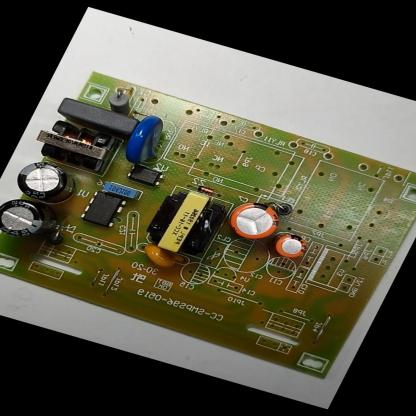Cap1: (220, 197, 289, 245)
Cap2: (270, 231, 312, 262)
Cap3: (8, 156, 84, 208)
Cap4: (0, 194, 66, 246)
MOSFET: (78, 188, 130, 229)
Mov: (117, 112, 175, 169)
Resistor: (102, 88, 142, 117)
Transformer: (136, 184, 230, 260), (27, 114, 122, 173)
